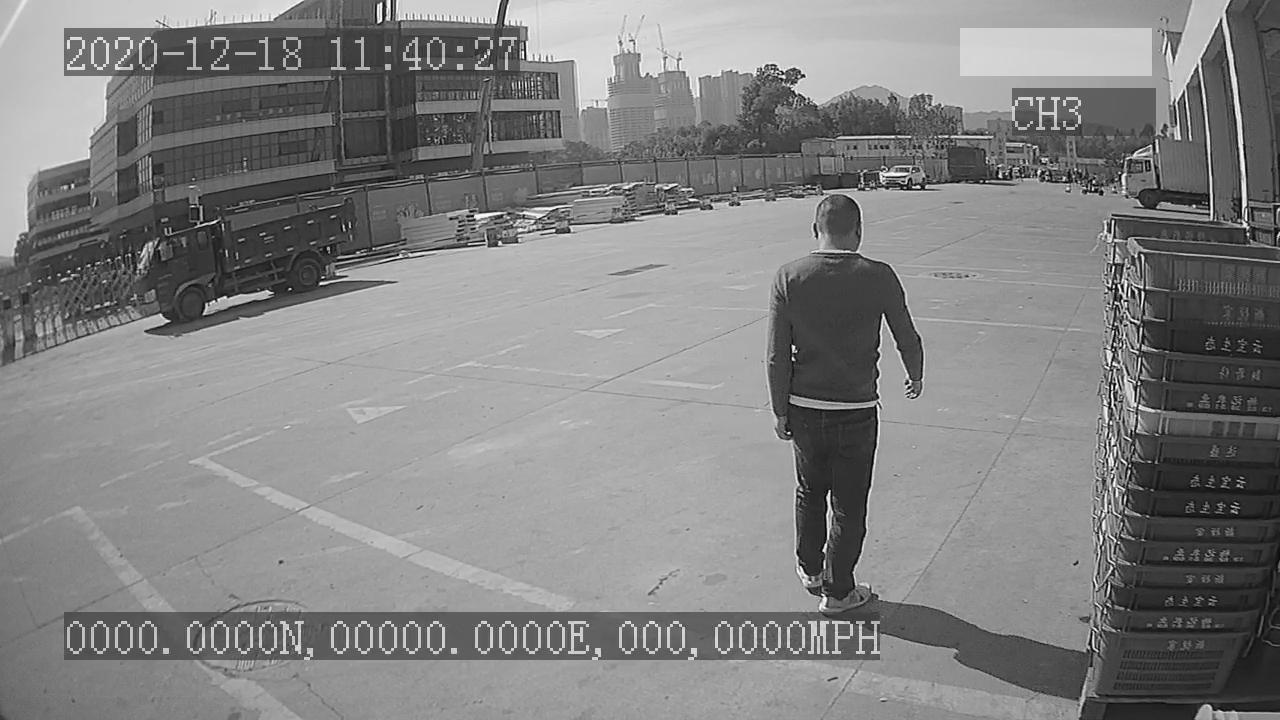person: (762, 189, 926, 614)
